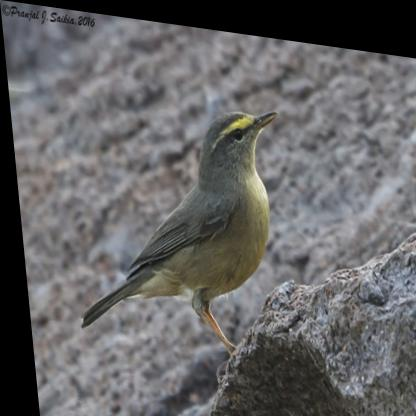Burung: (54, 75, 302, 354)
